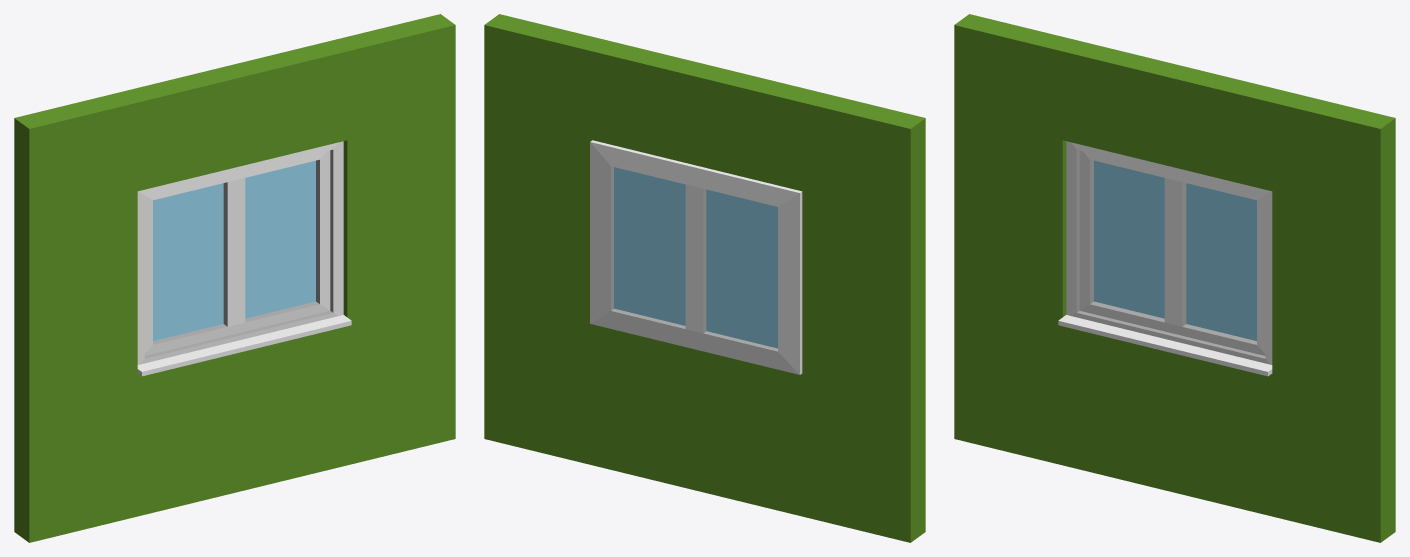
File: WindowWall.fbx
The picture shows the model from 3 angles, left to right: view 1: azimuth 30°, elevation 25°; view 2: azimuth 150°, elevation 25°; view 3: azimuth 330°, elevation 25°; orthographic projection.
Parts seen in each view (by area): view 1: WindowWall; view 2: WindowWall; view 3: WindowWall.
Boxes of the visible parts, left/top/right/bottom form: WindowWall: left=14, top=14, right=455, bottom=542; WindowWall: left=484, top=14, right=925, bottom=542; WindowWall: left=954, top=14, right=1395, bottom=542.
Bounding box in the file's own units: 197 × 183 × 17.9.
